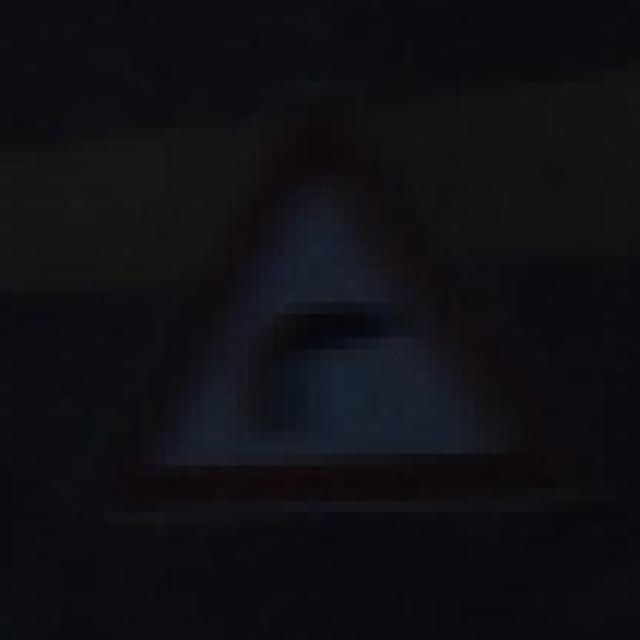Dangerous Rright Curve Ahead: (83, 105, 569, 512)
